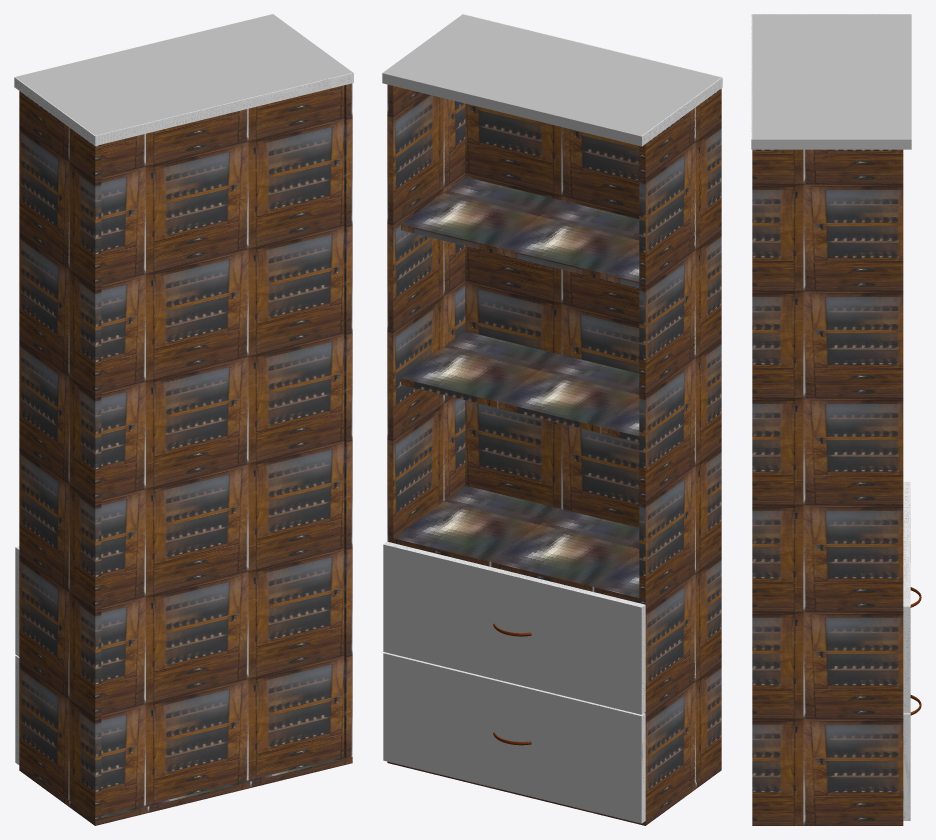
3 renders of one model, left to right at view 1: azimuth 30°, elevation 25°; view 2: azimuth 150°, elevation 25°; view 3: azimuth 270°, elevation 25°, orthographic.
Visible parts, largest first — view 1: mesh5_mesh5-geometry; view 2: mesh5_mesh5-geometry, mesh31_mesh31-geometry, mesh25_mesh25-geometry; view 3: mesh5_mesh5-geometry, mesh31_mesh31-geometry, mesh25_mesh25-geometry.
Part boxes in pixels (box(x1,y1,x2,y2)): mesh5_mesh5-geometry: box(14, 14, 353, 825); mesh5_mesh5-geometry: box(382, 14, 722, 825); mesh31_mesh31-geometry: box(383, 541, 645, 714); mesh25_mesh25-geometry: box(383, 652, 645, 823); mesh5_mesh5-geometry: box(751, 14, 911, 825); mesh31_mesh31-geometry: box(903, 481, 910, 713); mesh25_mesh25-geometry: box(903, 713, 910, 820).
Size of the model in its own units: 0.3575 by 0.9112 by 0.2046.
